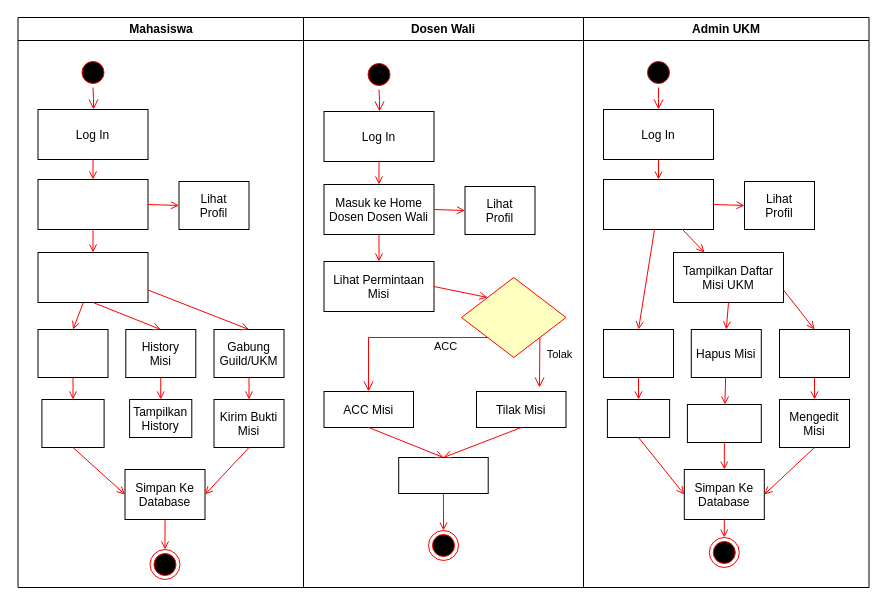
The diagram is 886 pixels wide and 605 high, and some of its shapes have lost their labels. Each missing label, with the centre of its shape:
ACC/Tolak Misi: point (513, 317)
Edit Misi: point (814, 353)
Isi Detail Misi: point (638, 418)
Isi Detail Misi dan Bukti: point (72, 423)
Masuk Home Admin UKM: point (658, 204)
Masuk Home Mahasiswa: point (92, 204)
Menghapus Misi: point (723, 423)
Navigasi ke Halaman Misi: point (92, 277)
Notifikasi Mahasiswa: point (443, 475)
Request Misi: point (72, 353)
Tambah Misi: point (638, 353)
